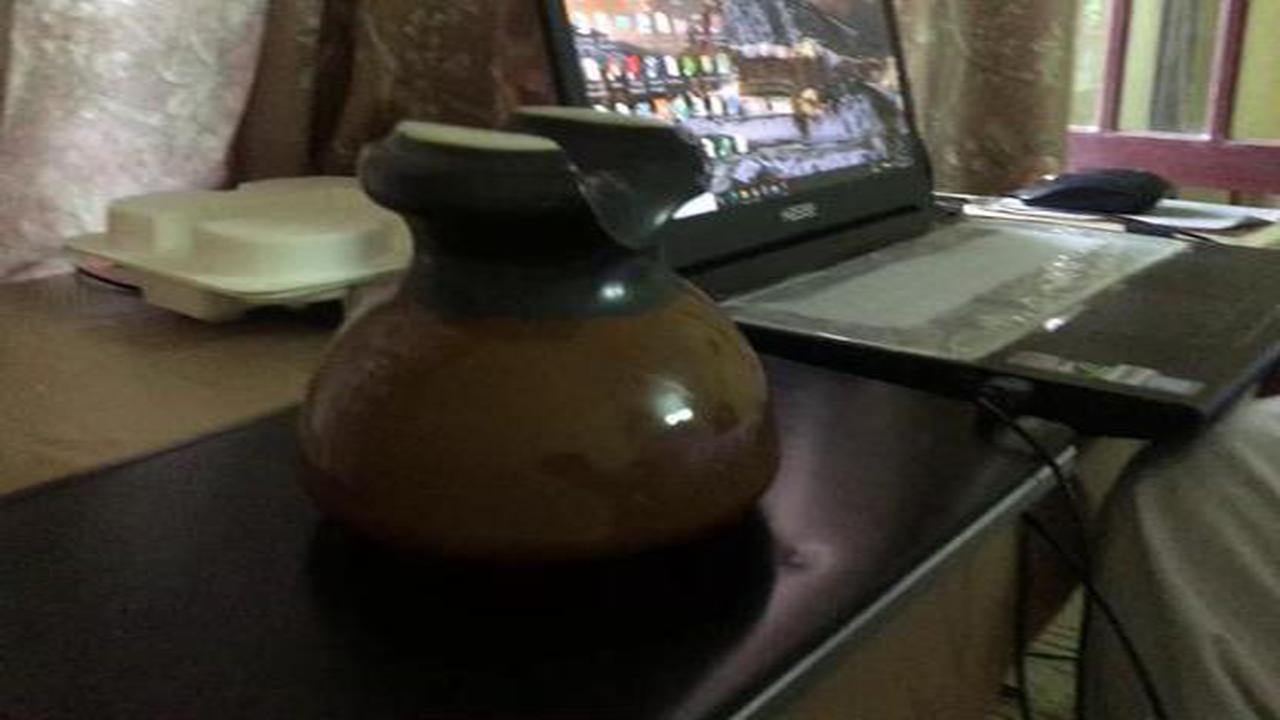insulator_pin: (271, 90, 810, 573)
